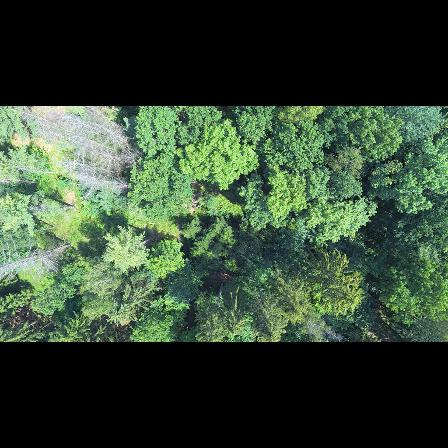Dead: (0, 242, 70, 278), (76, 170, 131, 193), (70, 132, 124, 153), (93, 119, 132, 143), (12, 110, 63, 128), (86, 106, 126, 128), (60, 158, 110, 173), (95, 150, 123, 163)
